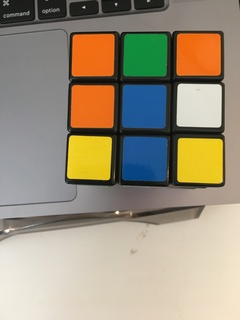face: (66, 33, 226, 186)
